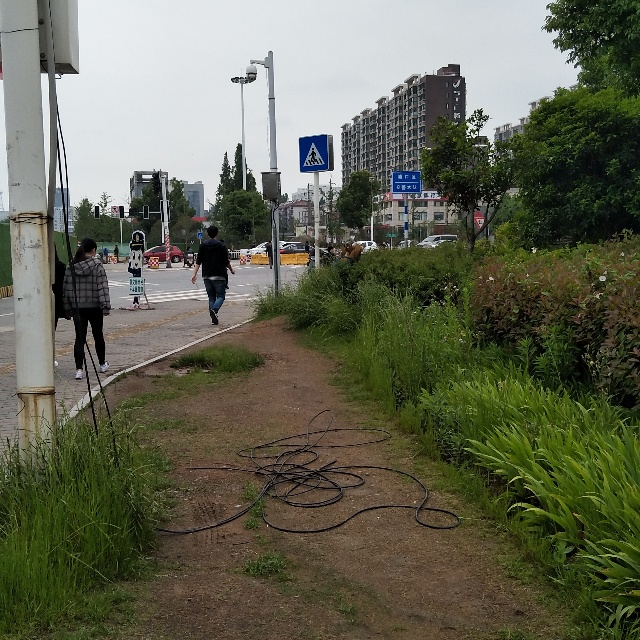crosswalk: (297, 136, 334, 172)
